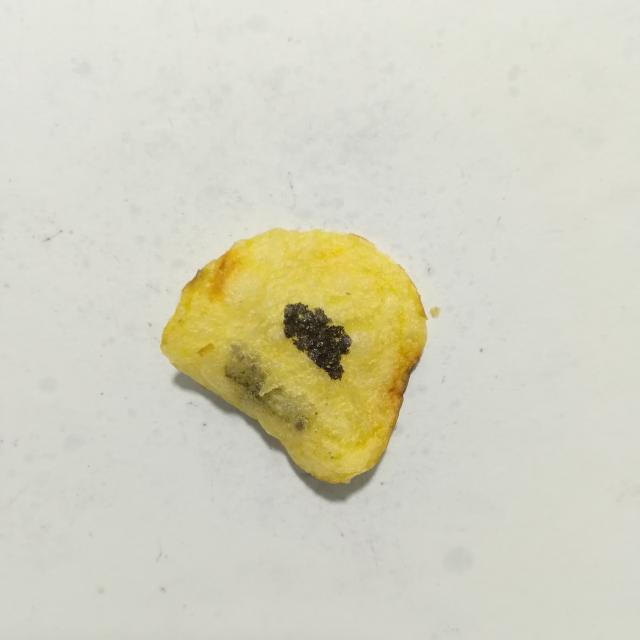chip: (161, 229, 427, 483)
damaged: (283, 302, 352, 380)
semi-damaged: (225, 343, 308, 429)
